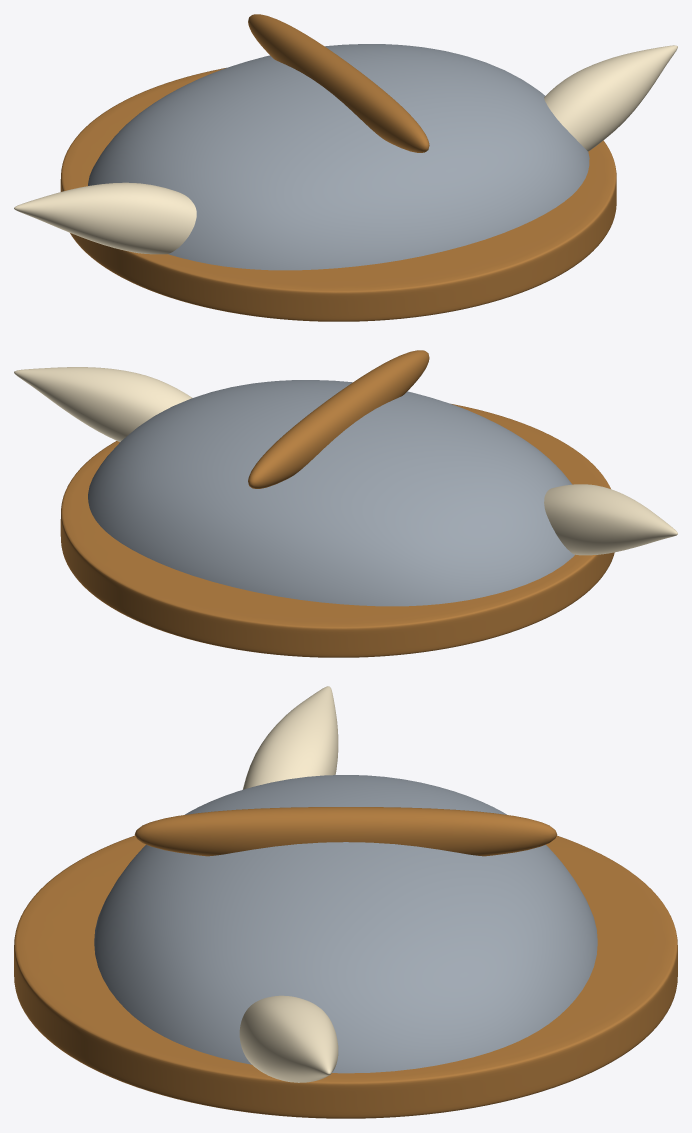
File: viking_helmet.glb
The picture shows the model from 3 angles, top to bottom: view 1: azimuth 30°, elevation 25°; view 2: azimuth 150°, elevation 25°; view 3: azimuth 270°, elevation 25°; orthographic projection. The views are drawn at different scales.
Parts seen in each view (by area): view 1: ACC_viking_dome, ACC_viking_band, ACC_viking_horn-1, ACC_viking_ridge, ACC_viking_horn1; view 2: ACC_viking_dome, ACC_viking_band, ACC_viking_ridge, ACC_viking_horn1, ACC_viking_horn-1; view 3: ACC_viking_dome, ACC_viking_band, ACC_viking_ridge, ACC_viking_horn1, ACC_viking_horn-1.
Part boxes in pixels (x1,y1,x2,y2): ACC_viking_dome: (88, 44, 589, 270); ACC_viking_band: (60, 67, 616, 321); ACC_viking_horn-1: (14, 182, 196, 254); ACC_viking_ridge: (248, 14, 429, 152); ACC_viking_horn1: (544, 45, 677, 151); ACC_viking_dome: (88, 380, 574, 606); ACC_viking_band: (60, 404, 614, 657); ACC_viking_ridge: (248, 350, 429, 488); ACC_viking_horn1: (14, 367, 192, 441); ACC_viking_horn-1: (544, 484, 677, 555); ACC_viking_dome: (94, 775, 597, 1073); ACC_viking_band: (14, 835, 677, 1118); ACC_viking_ridge: (134, 807, 557, 856); ACC_viking_horn1: (239, 995, 338, 1082); ACC_viking_horn-1: (242, 686, 338, 789).
Size of the model in its own units: 1.77 by 0.4104 by 1.28.
